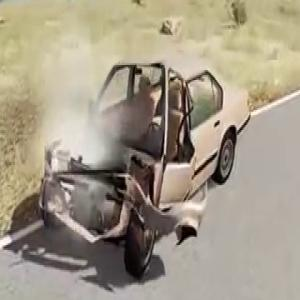fatal: (31, 55, 253, 275)
